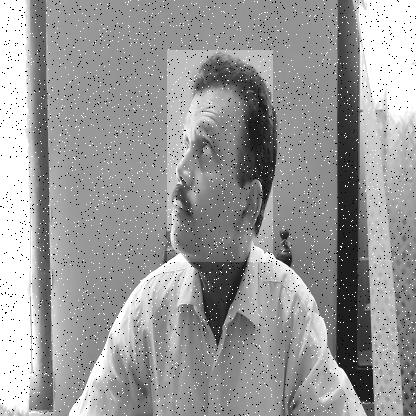Distracted: (167, 50, 273, 262)
